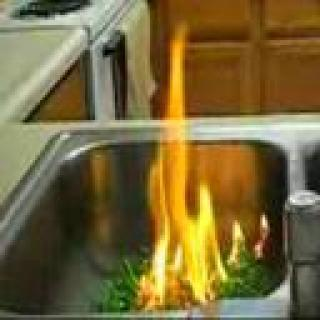fire: (141, 32, 231, 310), (223, 211, 270, 268)
